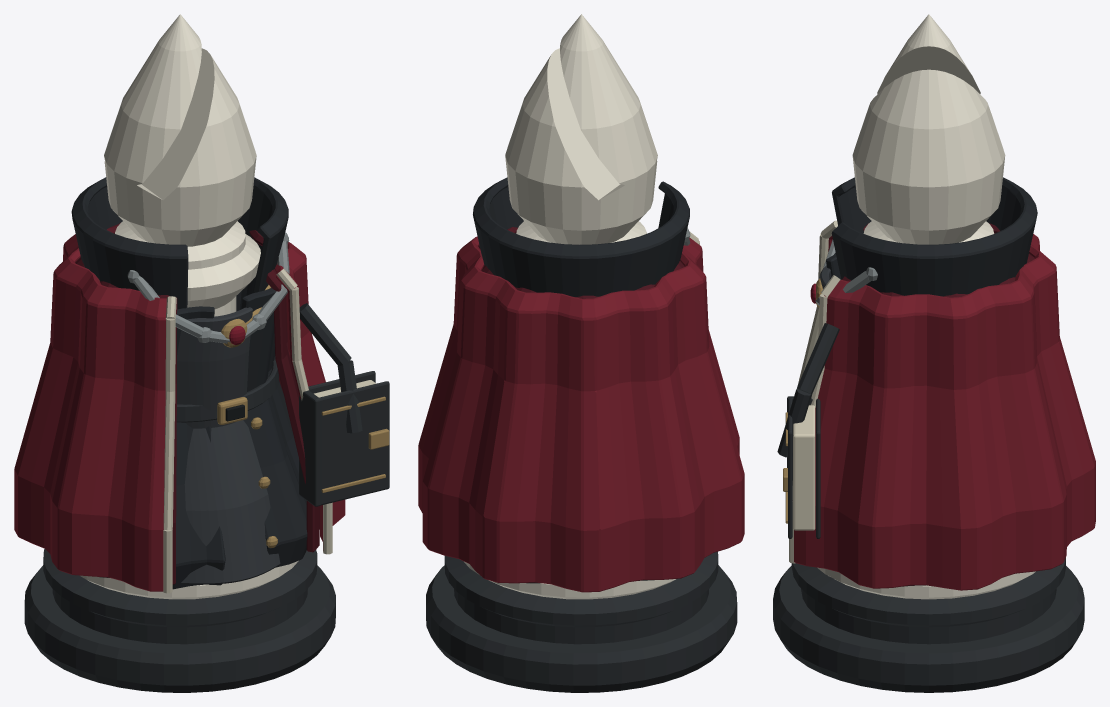
Rendered from CHR_voss.glb.
3 renders of one model, left to right at view 1: azimuth 30°, elevation 25°; view 2: azimuth 150°, elevation 25°; view 3: azimuth 270°, elevation 25°, orthographic.
Parts seen in each view (by area): view 1: CHR_voss__red, CHR_voss__black, CHR_voss__ivory, CHR_voss__cloth, CHR_voss__fold, CHR_voss__edge, CHR_voss__redshadow, CHR_voss__brass, CHR_voss__steel; view 2: CHR_voss__red, CHR_voss__black, CHR_voss__ivory, CHR_voss__cloth; view 3: CHR_voss__red, CHR_voss__black, CHR_voss__ivory, CHR_voss__cloth, CHR_voss__paper, CHR_voss__edge, CHR_voss__steel.
Part boxes in pixels (x1,y1,x2,y2): CHR_voss__red: (14,234,345,591); CHR_voss__black: (24,303,389,692); CHR_voss__ivory: (80,14,298,599); CHR_voss__cloth: (71,177,307,589); CHR_voss__fold: (177,307,280,584); CHR_voss__edge: (163,268,332,593); CHR_voss__redshadow: (75,223,319,584); CHR_voss__brass: (217,285,389,547); CHR_voss__steel: (127,232,289,343); CHR_voss__red: (418,236,744,592); CHR_voss__black: (426,551,737,692); CHR_voss__ivory: (464,14,675,599); CHR_voss__cloth: (473,177,689,583); CHR_voss__red: (794,234,1095,590); CHR_voss__black: (773,323,1084,692); CHR_voss__ivory: (817,14,1035,599); CHR_voss__cloth: (826,177,1037,586); CHR_voss__paper: (793,405,815,530); CHR_voss__edge: (789,220,840,563); CHR_voss__steel: (815,239,877,305).
Size of the model in its own units: 0.9351 by 1.95 by 0.9264.
